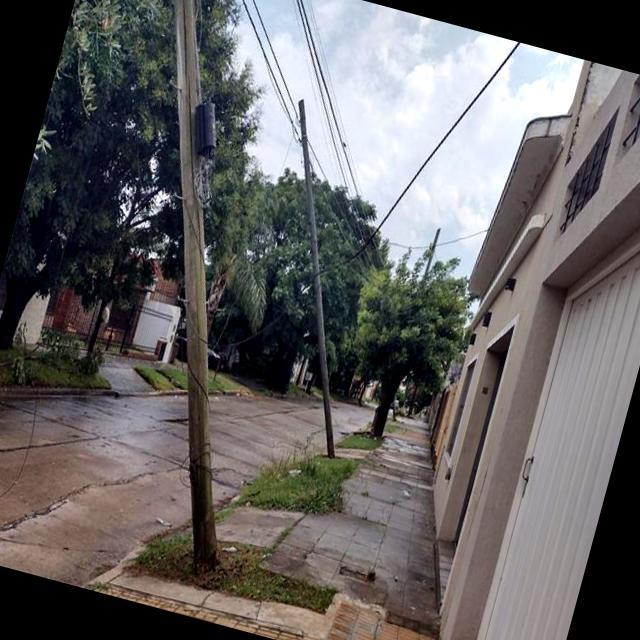Broken Pole: (175, 0, 217, 567), (298, 98, 334, 456)
